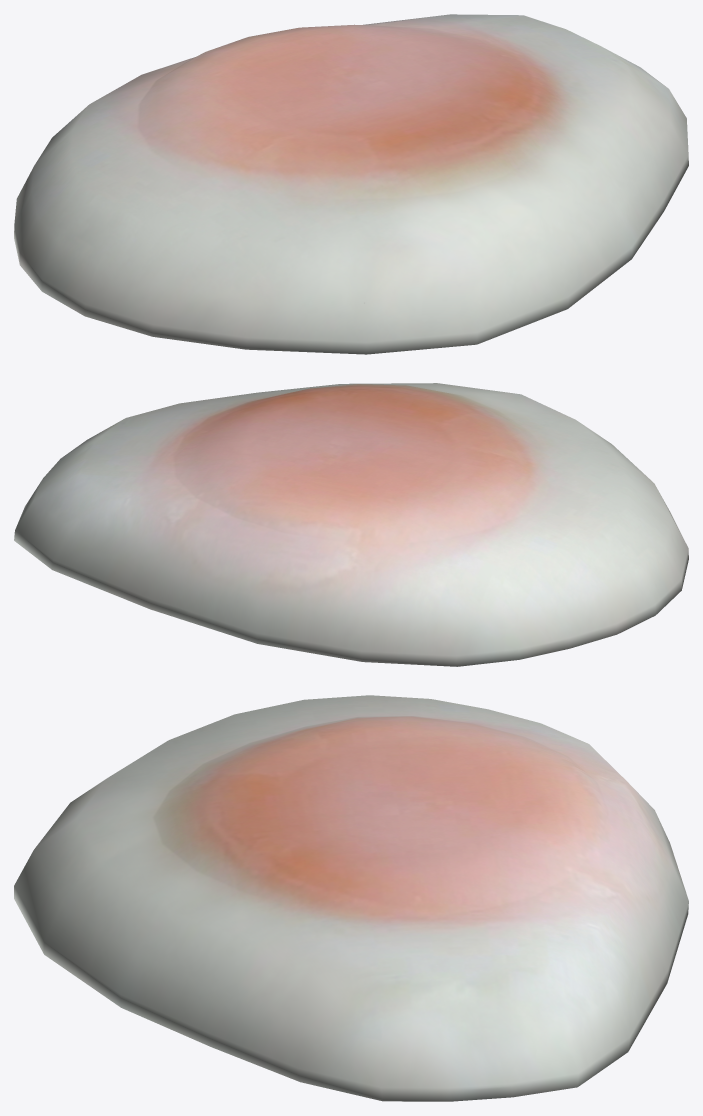
Rendered from Telur Matang.fbx.
The picture shows the model from 3 angles, top to bottom: view 1: azimuth 30°, elevation 25°; view 2: azimuth 150°, elevation 25°; view 3: azimuth 270°, elevation 25°; orthographic projection. The views are drawn at different scales.
Parts seen in each view (by area): view 1: Telur Matang; view 2: Telur Matang; view 3: Telur Matang.
Part boxes in pixels (x1,y1,x2,y2): Telur Matang: (14, 14, 688, 354); Telur Matang: (14, 383, 688, 666); Telur Matang: (14, 695, 688, 1101).
Size of the model in its own units: 5.12 by 0.9076 by 4.19.
1 material, 1 textured.
